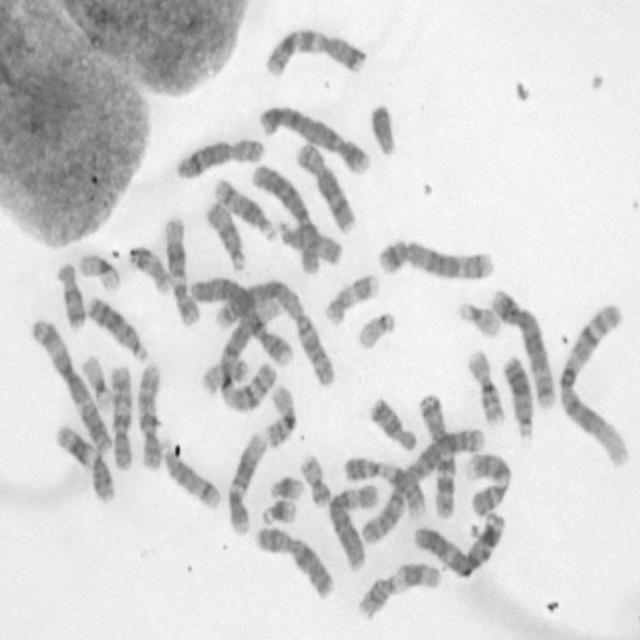A1: (555, 299, 633, 469), (216, 293, 285, 415)
A2: (356, 424, 486, 548), (214, 276, 338, 390)
A3: (28, 313, 113, 455), (411, 507, 507, 580)
B4: (186, 272, 294, 368), (255, 101, 372, 177)
B5: (488, 284, 558, 410), (373, 236, 496, 282)
C10: (135, 360, 164, 472), (106, 361, 135, 471)
C11: (352, 557, 442, 623), (52, 420, 116, 504)
C12: (160, 214, 202, 328), (224, 428, 267, 536)
C6: (248, 160, 324, 276), (326, 480, 380, 572)
C7: (413, 386, 459, 521), (261, 24, 367, 78)
C8: (294, 138, 356, 234), (172, 133, 267, 182)
C9: (341, 453, 428, 518), (463, 448, 512, 517)
D13: (84, 291, 149, 363), (500, 351, 535, 442)
D14: (160, 438, 223, 511), (212, 176, 278, 242)
D15: (275, 216, 344, 267), (203, 198, 247, 274)
E16: (464, 346, 506, 426), (262, 382, 298, 451)
E17: (322, 269, 380, 328), (126, 242, 173, 296)
E18: (367, 393, 418, 453), (54, 260, 88, 328)
F19: (78, 352, 112, 411), (76, 251, 121, 294)
F20: (200, 354, 250, 396), (297, 450, 331, 508)
G21: (259, 494, 297, 526), (267, 471, 305, 501)
G22: (455, 298, 502, 340), (354, 309, 396, 352)
X: (252, 522, 336, 601)
Y: (368, 100, 398, 157)
